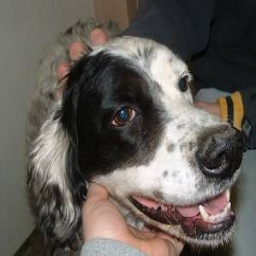dog: (26, 29, 243, 256)
